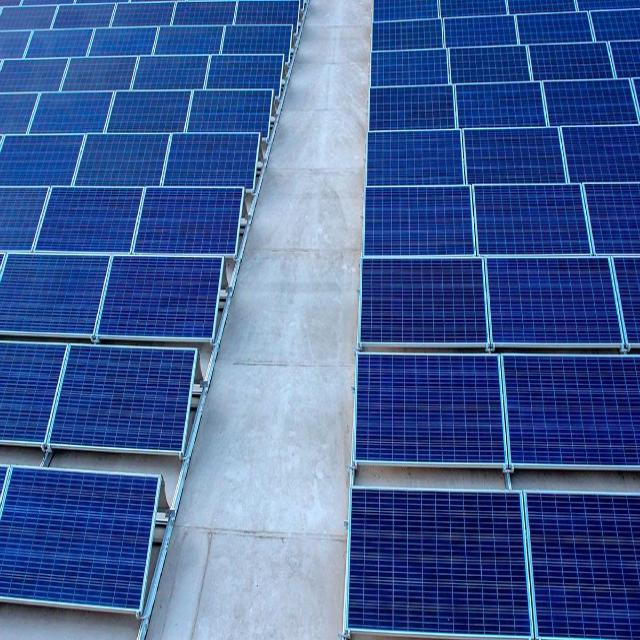clean-solar-panel: (344, 0, 640, 638)
